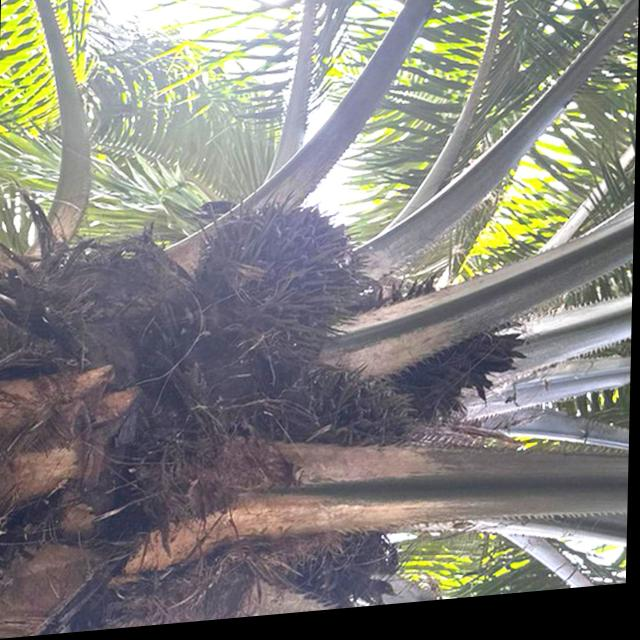ripe: (199, 201, 374, 365), (279, 364, 429, 477)
